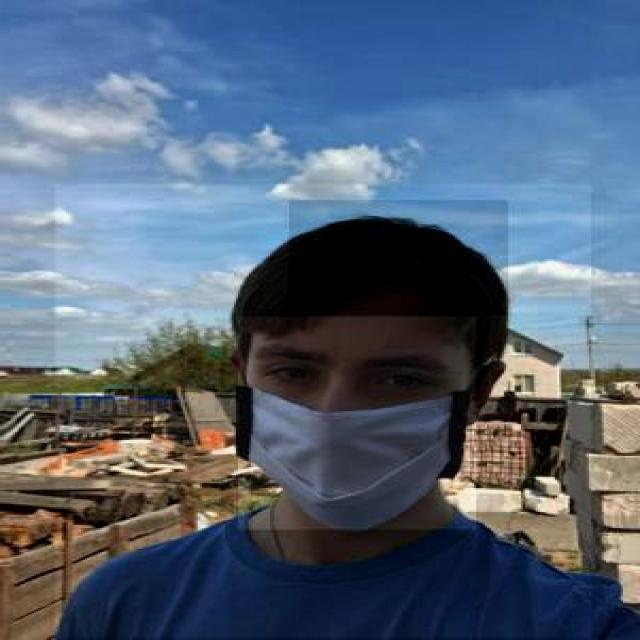face_mask: (236, 317, 476, 531)
head_nohelmet: (289, 200, 508, 315)
person: (53, 184, 591, 638)
